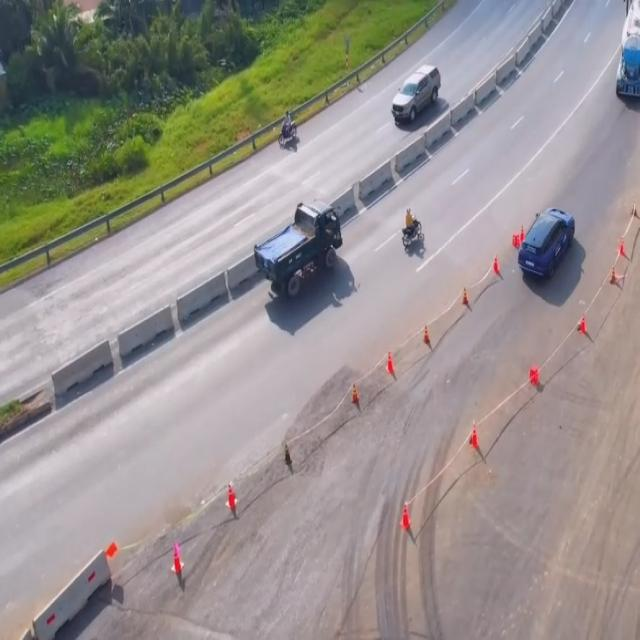car: (516, 209, 577, 287), (391, 64, 441, 122)
motorbike: (401, 209, 426, 250), (277, 110, 300, 150)
truck: (256, 200, 343, 297), (614, 1, 640, 100)
